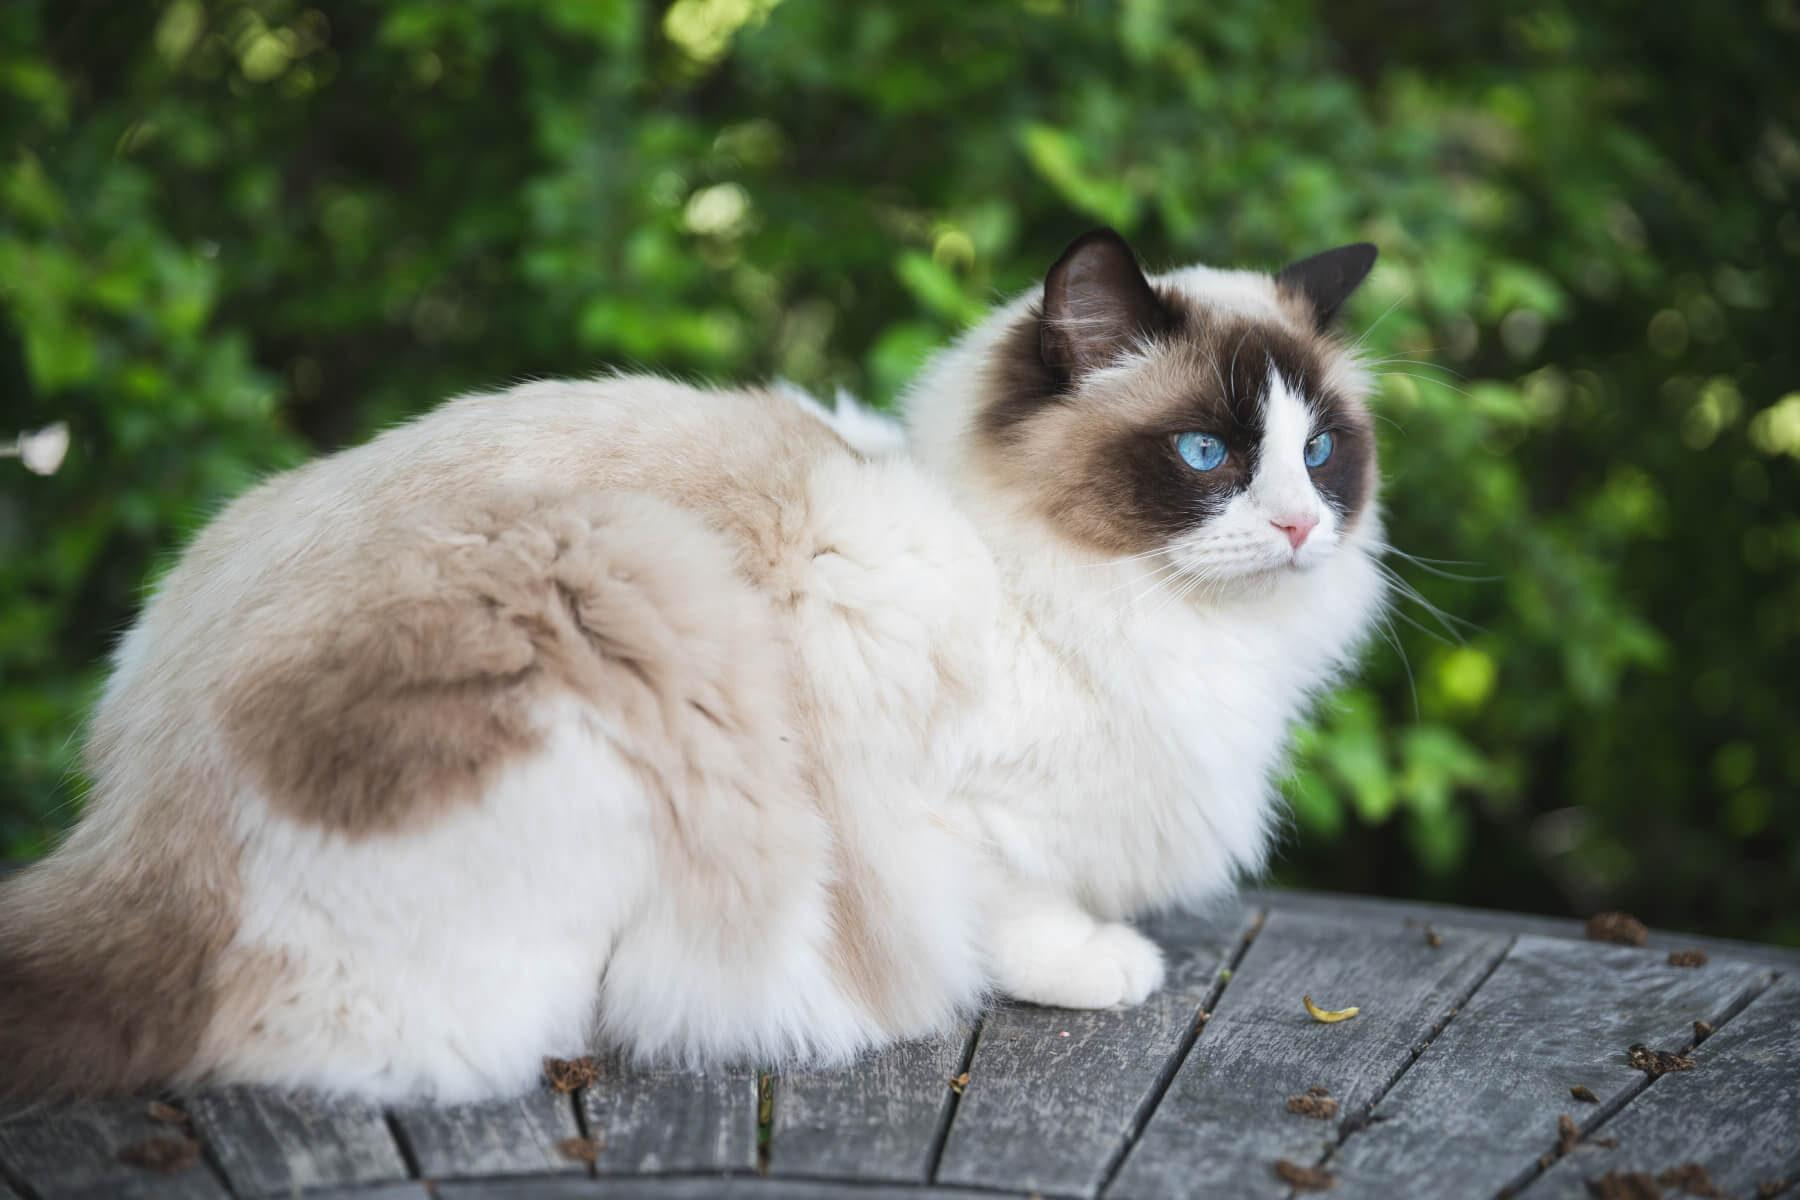ragdoll: (998, 201, 1396, 644)
